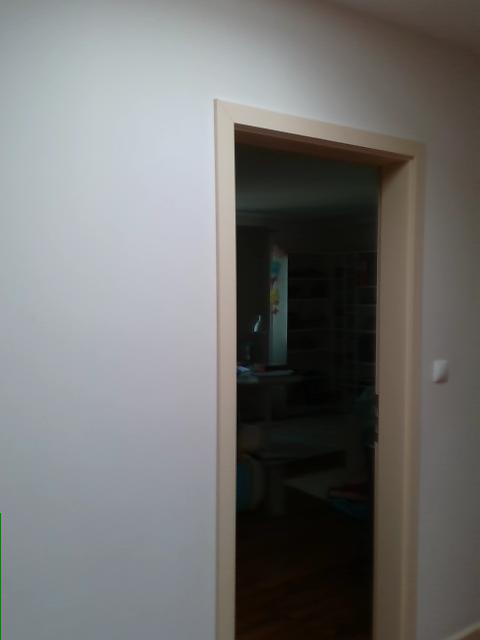open_door: (215, 96, 426, 639)
